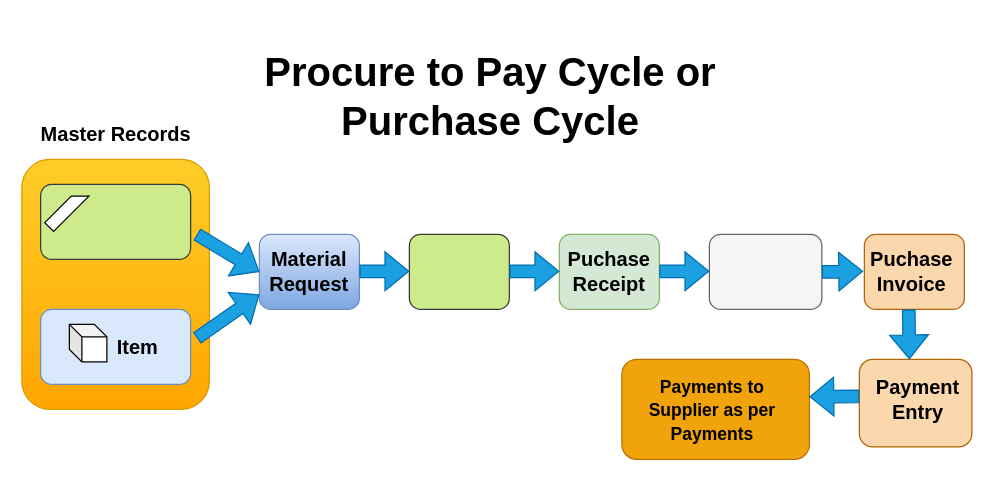
Some shapes in this 994 by 481 pixel diagram are drawn without their labels. Each missing label, with the box of its shape:
Purchase order: (408, 233, 509, 309)
Quality Inspection: (708, 233, 822, 309)
Supplier: (39, 183, 191, 259)
